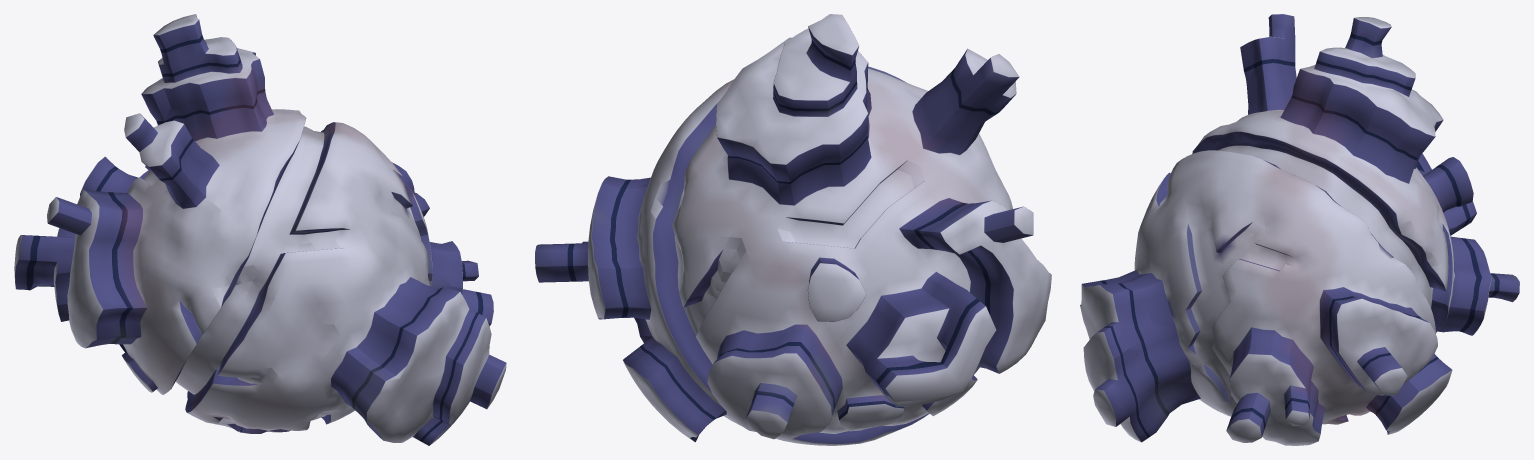
Rendered from Planet D Render.fbx.
The picture shows the model from 3 angles, left to right: view 1: azimuth 30°, elevation 25°; view 2: azimuth 150°, elevation 25°; view 3: azimuth 270°, elevation 25°; orthographic projection. The views are drawn at different scales.
Visible parts, largest first — view 1: Icosphere; view 2: Icosphere; view 3: Icosphere.
Part boxes in pixels (left/top/right/bottom): Icosphere: left=14, top=14, right=506, bottom=445; Icosphere: left=535, top=14, right=1051, bottom=445; Icosphere: left=1080, top=14, right=1519, bottom=445.
Size of the model in its own units: 7199 by 6513 by 6874.
